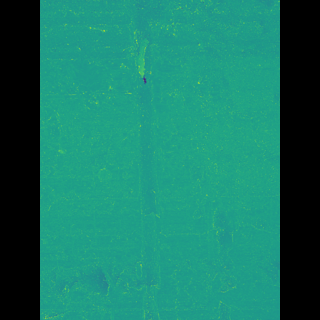Loch: (71, 0, 250, 219), (179, 68, 228, 319), (135, 0, 164, 320)
